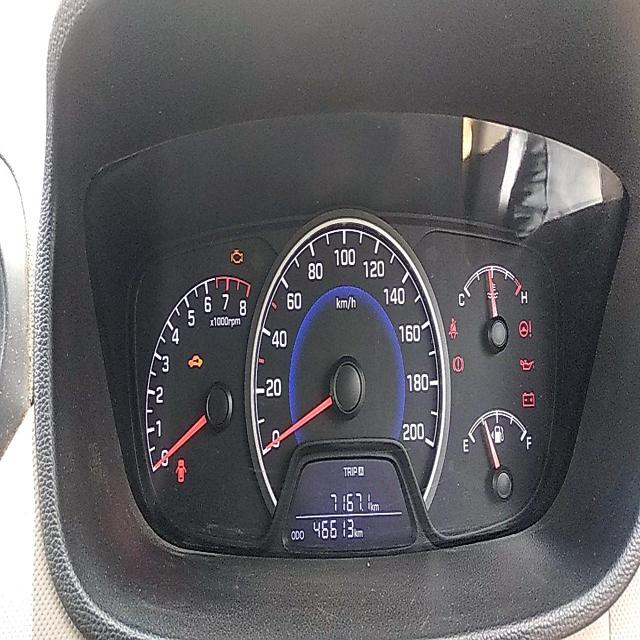odometer: (310, 516, 354, 547)
